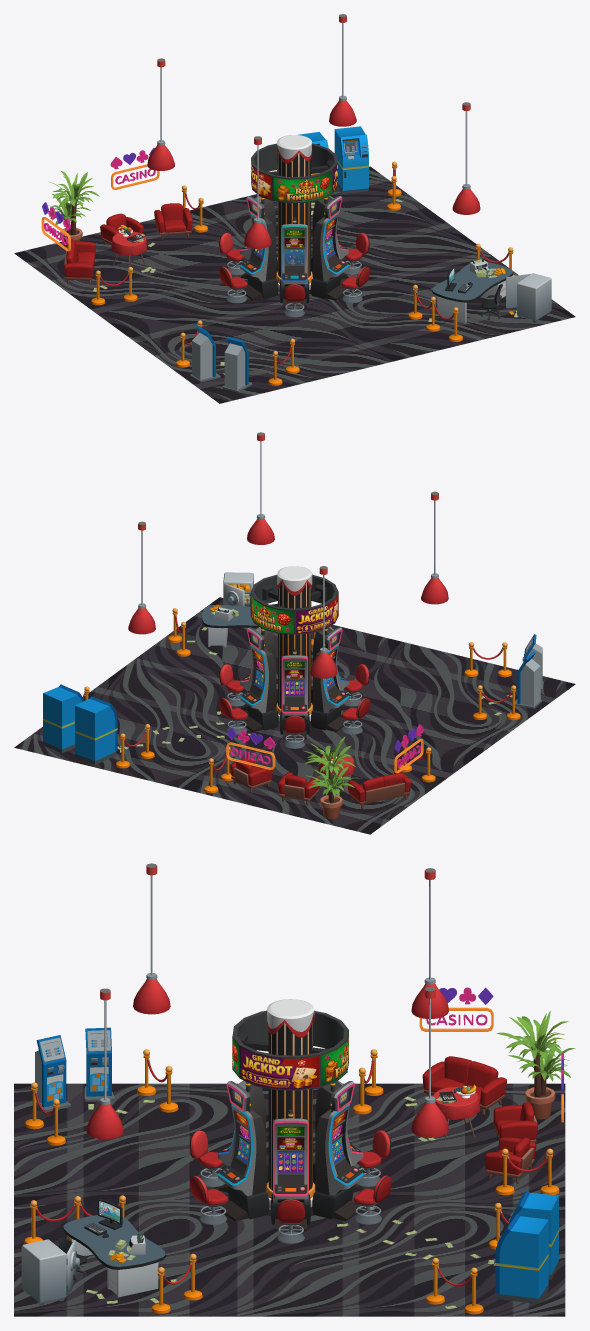
The model's file is Casino_Free_Demo.glb.
3 views of the same model, one above another, from view 1: azimuth 30°, elevation 25°; view 2: azimuth 150°, elevation 25°; view 3: azimuth 270°, elevation 25° (orthographic). The views are drawn at different scales.
Visible parts, largest first — view 1: Floor_01.001, Floor_01.003, Floor_01.002, Floor_01.004, Screens_01.001, Slot_Machine_02.002, Column_17.001, Table_06.001, Slot_Machine_02.001, ATM_01.001, Slot_Machine_Aquarium_01.002, SafeBox_01.001 (+19 smaller); view 2: Floor_01.001, Floor_01.004, Floor_01.003, Floor_01.002, Screens_01.001, Column_17.001, Slot_Machine_02.003, ATM_01.003, ATM_01.001, Slot_Machine_02.001, Slot_Machine_01.001, Flower_03.001 (+17 smaller); view 3: Floor_01.004, Floor_01.002, Floor_01.001, Floor_01.003, Screens_01.001, Column_17.001, Slot_Machine_02.002, Slot_Machine_02.003, ATM_01.001, Table_06.001, Slot_Machine_01.002, Flower_03.001 (+21 smaller).
Part boxes in pixels (bbox=[...]): Floor_01.001: bbox=[117, 290, 397, 403]; Floor_01.003: bbox=[14, 210, 248, 328]; Floor_01.002: bbox=[309, 242, 575, 360]; Floor_01.004: bbox=[192, 166, 472, 276]; Screens_01.001: bbox=[251, 143, 337, 203]; Slot_Machine_02.002: bbox=[310, 196, 348, 300]; Column_17.001: bbox=[276, 135, 312, 290]; Table_06.001: bbox=[432, 262, 513, 323]; Slot_Machine_02.001: bbox=[240, 196, 278, 300]; ATM_01.001: bbox=[334, 126, 368, 193]; Slot_Machine_Aquarium_01.002: bbox=[279, 217, 309, 307]; SafeBox_01.001: bbox=[517, 273, 551, 322]; Floor_01.001: bbox=[340, 640, 575, 759]; Floor_01.004: bbox=[14, 672, 279, 790]; Floor_01.003: bbox=[192, 721, 472, 834]; Floor_01.002: bbox=[117, 597, 397, 699]; Screens_01.001: bbox=[250, 574, 338, 634]; Column_17.001: bbox=[276, 566, 312, 721]; Slot_Machine_02.003: bbox=[240, 627, 278, 732]; ATM_01.003: bbox=[75, 696, 117, 764]; ATM_01.001: bbox=[43, 684, 84, 753]; Slot_Machine_02.001: bbox=[311, 627, 349, 731]; Slot_Machine_01.001: bbox=[280, 649, 309, 739]; Flower_03.001: bbox=[303, 736, 362, 819]; Floor_01.004: bbox=[289, 1200, 565, 1316]; Floor_01.002: bbox=[14, 1200, 289, 1316]; Floor_01.001: bbox=[14, 1083, 268, 1199]; Floor_01.003: bbox=[313, 1083, 565, 1199]; Screens_01.001: bbox=[232, 1010, 348, 1090]; Column_17.001: bbox=[266, 999, 315, 1207]; Slot_Machine_02.002: bbox=[217, 1081, 268, 1221]; Slot_Machine_02.003: bbox=[312, 1081, 363, 1221]; ATM_01.001: bbox=[495, 1213, 548, 1303]; Table_06.001: bbox=[63, 1215, 165, 1297]; Slot_Machine_01.002: bbox=[271, 1109, 310, 1231]; Flower_03.001: bbox=[496, 1011, 575, 1119].
Bounding box in the file's own units: 12 × 6.65 × 12.24.
11 materials, 10 textured.
